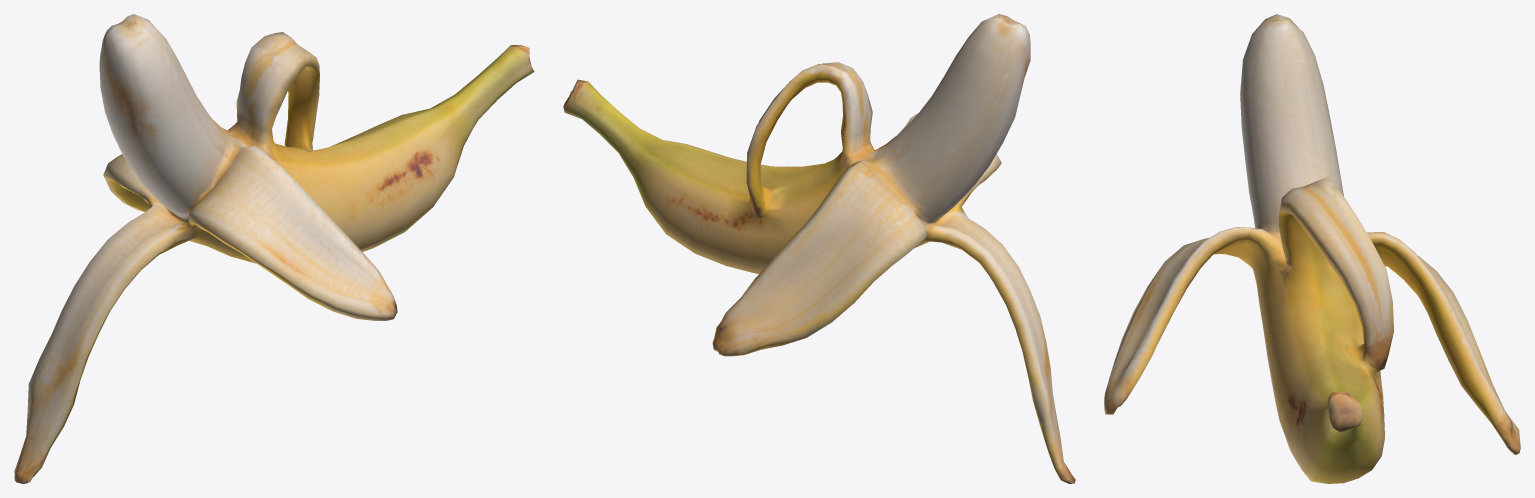
File: bananapelada.glb
3 renders of one model, left to right at view 1: azimuth 30°, elevation 25°; view 2: azimuth 150°, elevation 25°; view 3: azimuth 270°, elevation 25°, orthographic. The views are drawn at different scales.
Visible parts, largest first — view 1: Object_2; view 2: Object_2; view 3: Object_2.
Boxes of the visible parts, x1=… form: Object_2: x1=14, y1=14, x2=534, y2=483; Object_2: x1=563, y1=14, x2=1075, y2=483; Object_2: x1=1104, y1=14, x2=1520, y2=483.
Bounding box in the file's own units: 35.7 × 29.66 × 23.09.
1 material, 1 textured.
